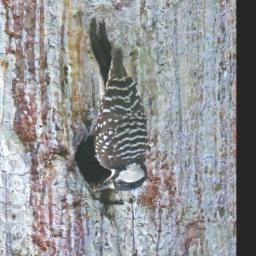Woodpecker: (85, 18, 154, 196)
